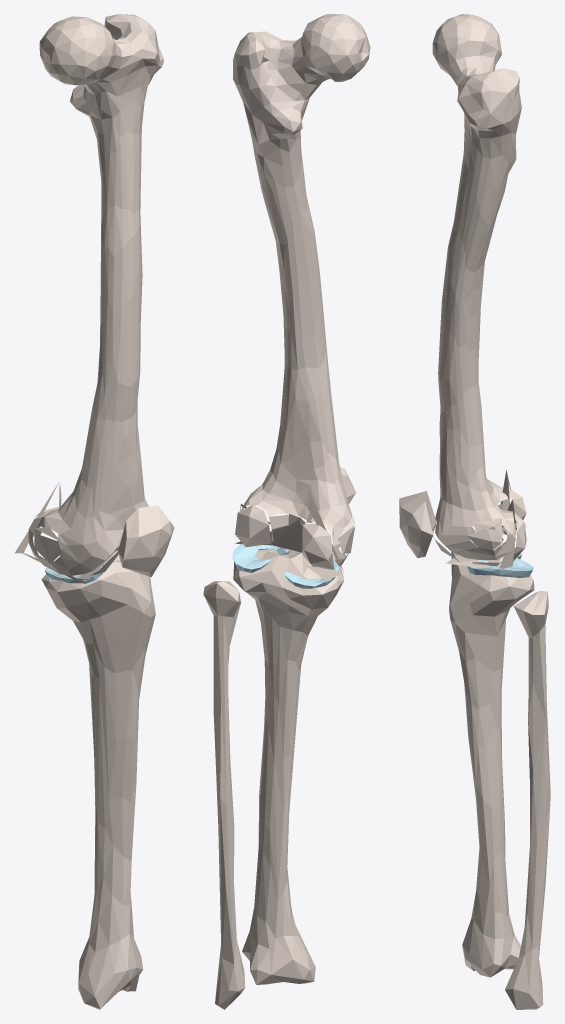
File: VH_F_Knee_L_0.1.glb
3 views of the same model, side by side, from view 1: azimuth 30°, elevation 25°; view 2: azimuth 150°, elevation 25°; view 3: azimuth 270°, elevation 25° (orthographic). The views are drawn at different scales.
Visible parts, largest first — view 1: VH_F_femur_L, VH_F_tibia_L, VH_F_patella_L, VH_F_articular_cartilage_of_knee_L, VH_F_medial_perichondular_surface_L, VH_F_meniscus_L; view 2: VH_F_femur_L, VH_F_tibia_L, VH_F_fibula_L, VH_F_meniscus_L, VH_F_articular_cartilage_of_knee_L, VH_F_medial_condyle_of_left_femur_inf, VH_F_lateral_condyle_of_femur_inf_L; view 3: VH_F_femur_L, VH_F_tibia_L, VH_F_fibula_L, VH_F_patella_L, VH_F_articular_cartilage_of_knee_L, VH_F_meniscus_L, VH_F_lateral_perichondular_surface_L, VH_F_lateral_condyle_of_femur_inf_L.
Part boxes in pixels (<box>): VH_F_femur_L: <box>28,14,163,575</box>; VH_F_tibia_L: <box>41,559,155,1009</box>; VH_F_patella_L: <box>118,505,174,577</box>; VH_F_articular_cartilage_of_knee_L: <box>15,482,120,581</box>; VH_F_medial_perichondular_surface_L: <box>34,534,62,563</box>; VH_F_meniscus_L: <box>45,560,120,583</box>; VH_F_femur_L: <box>233,14,370,566</box>; VH_F_tibia_L: <box>233,549,344,984</box>; VH_F_fibula_L: <box>203,581,245,1009</box>; VH_F_meniscus_L: <box>232,544,339,588</box>; VH_F_articular_cartilage_of_knee_L: <box>235,495,343,580</box>; VH_F_medial_condyle_of_left_femur_inf: <box>302,523,334,569</box>; VH_F_lateral_condyle_of_femur_inf_L: <box>235,504,270,547</box>; VH_F_femur_L: <box>432,14,521,560</box>; VH_F_tibia_L: <box>449,544,534,977</box>; VH_F_fibula_L: <box>505,590,550,1009</box>; VH_F_patella_L: <box>399,491,436,557</box>; VH_F_articular_cartilage_of_knee_L: <box>432,469,527,568</box>; VH_F_meniscus_L: <box>467,540,533,577</box>; VH_F_lateral_perichondular_surface_L: <box>467,528,502,549</box>; VH_F_lateral_condyle_of_femur_inf_L: <box>507,512,526,560</box>.
Bounding box in the file's own units: 0.1079 × 0.7727 × 0.1109.
